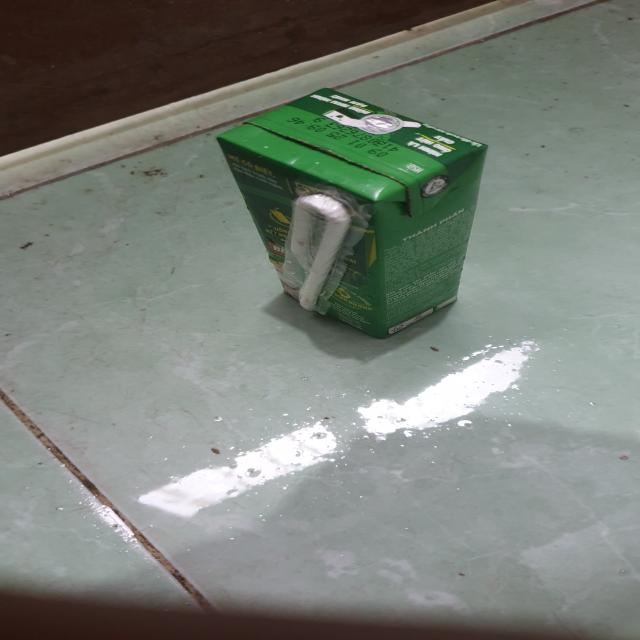Milo: (213, 85, 495, 344)
